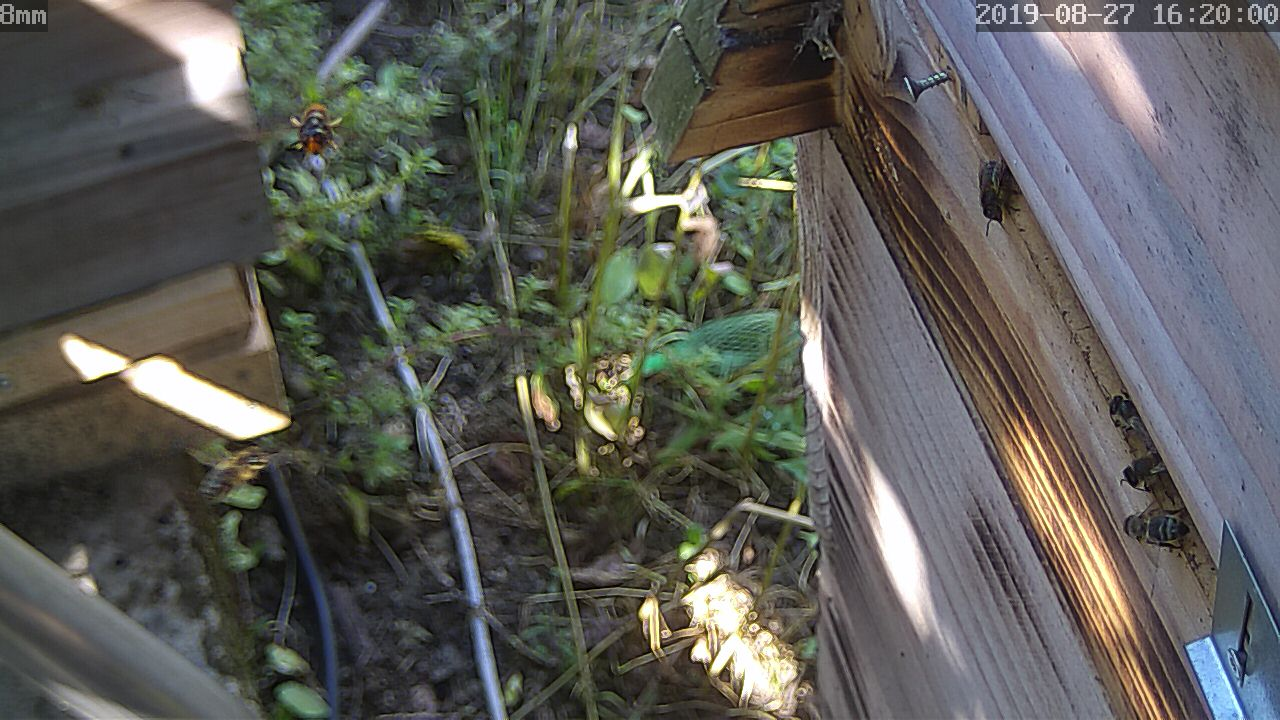bee: (1114, 498, 1189, 564), (964, 148, 1023, 222), (1102, 450, 1166, 501)
hornet: (270, 91, 344, 163)
